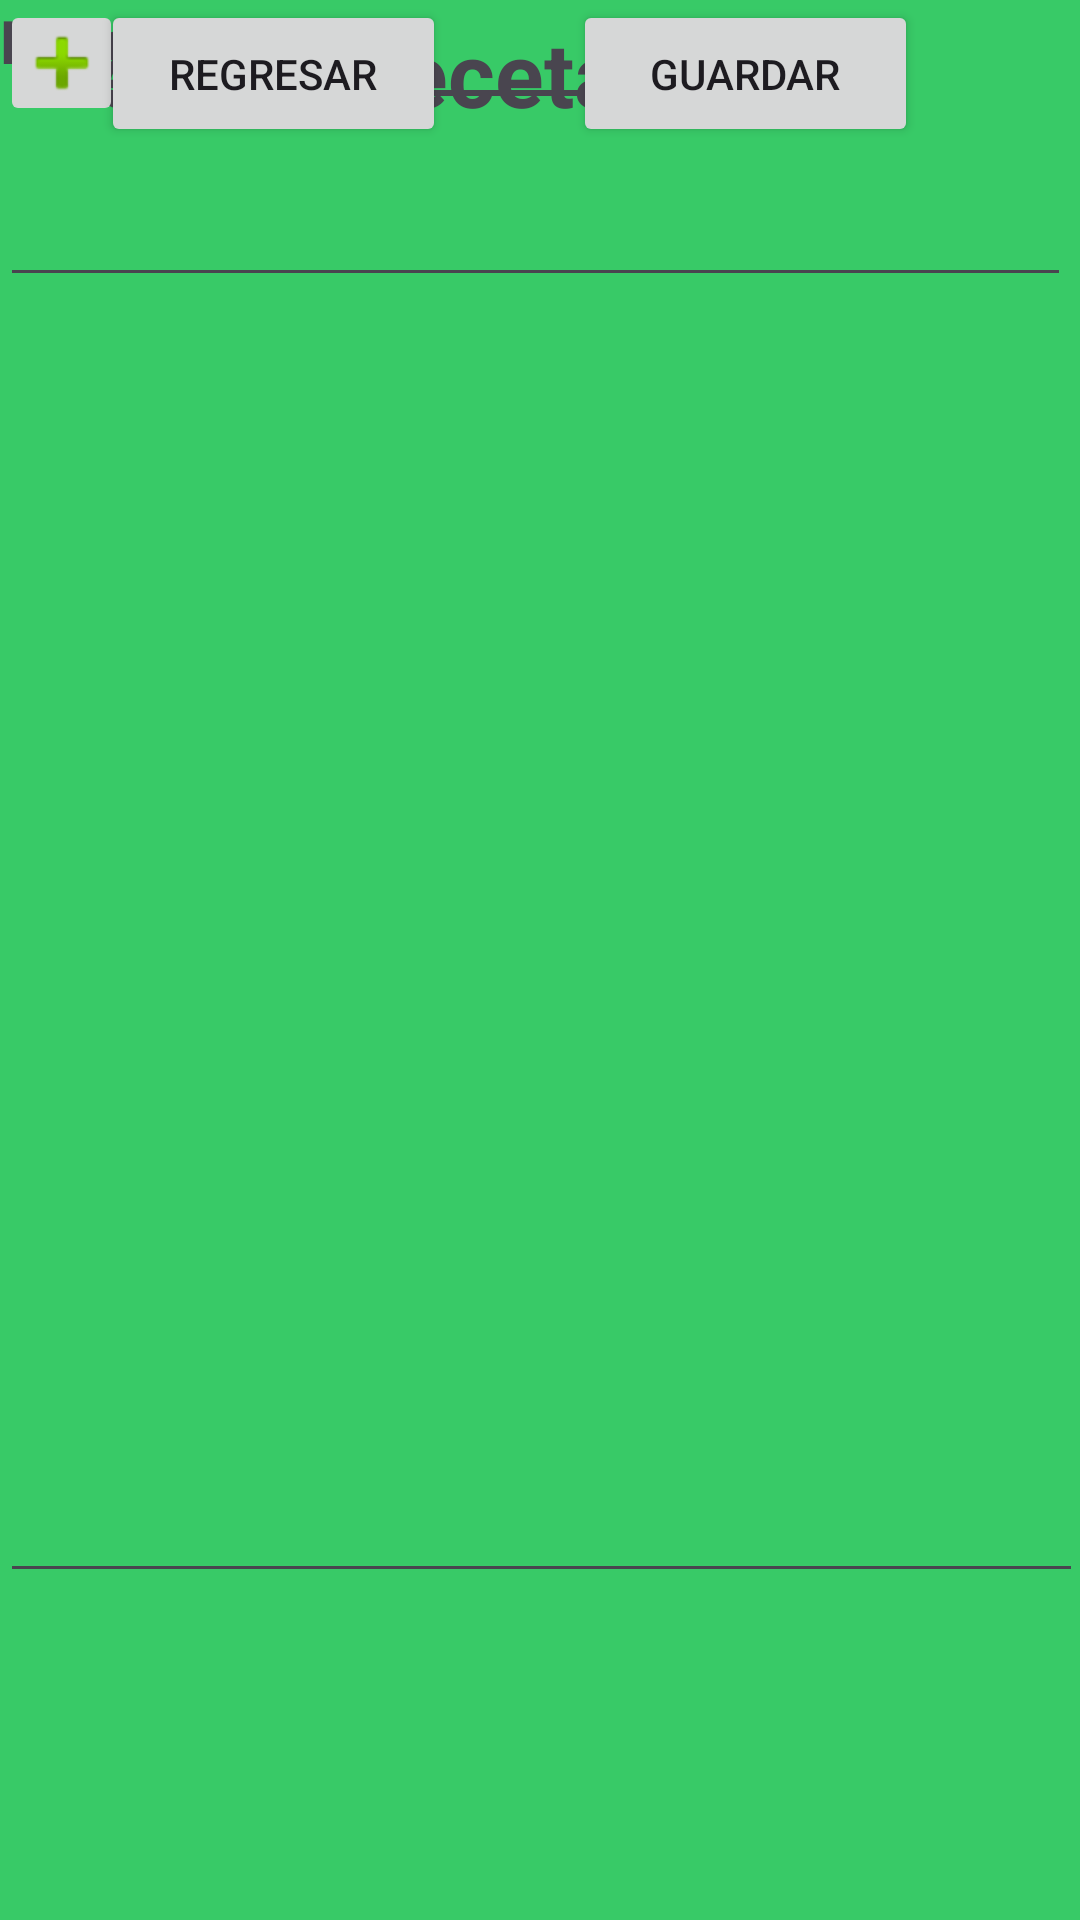

Point at icon controls on the screen. Image size 1080*1920, points as [x,y].
add: [61,63]
